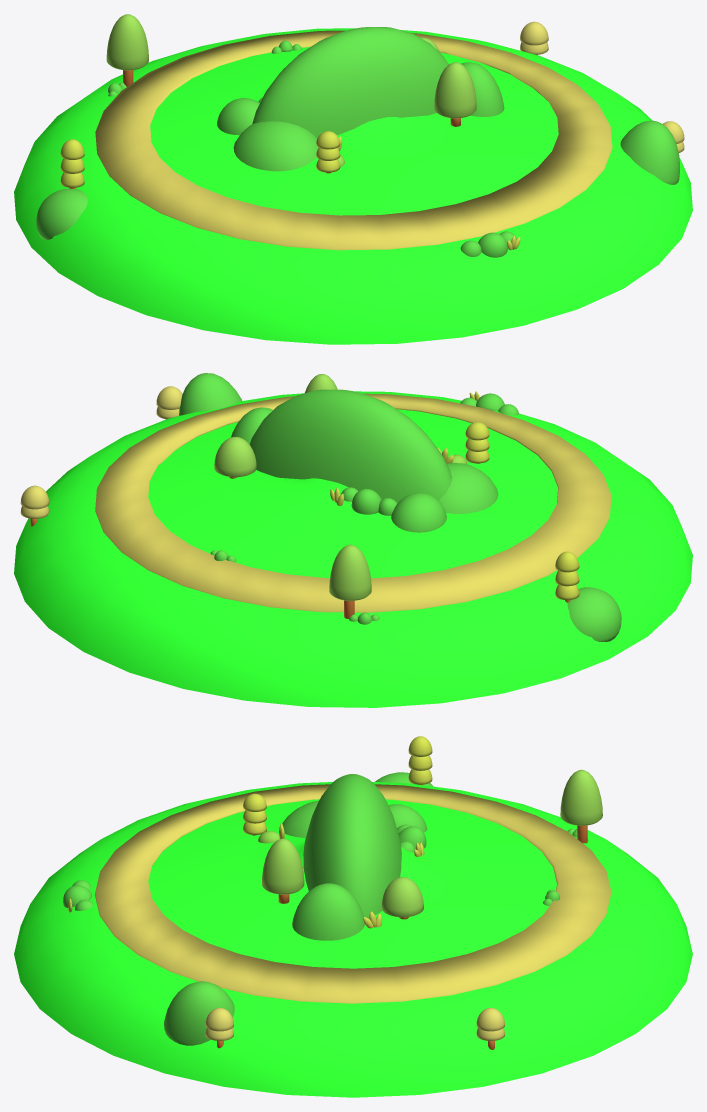
File: Island.gltf
3 views of the same model, one above another, from view 1: azimuth 30°, elevation 25°; view 2: azimuth 150°, elevation 25°; view 3: azimuth 270°, elevation 25° (orthographic).
Visible parts, largest first — view 1: Wood, Road, BigMountain, SmallMountainLeft, SmallMountain.001, MainTree, MainTree.004, SmallMountainLeft.002, SmallMountain, SmallMountainLeft.001, YellowTree.001, SmallGlass (+2 smaller); view 2: Wood, Road, BigMountain, SmallMountainLeft.002, SmallMountainLeft, MainTree.004, SmallMountain.001, SmallMountainLeft.001, MainTree.001, SmallGlass.001, YellowTree.001, YellowTree (+3 smaller); view 3: Wood, Road, BigMountain, SmallMountain, SmallMountain.001, MainTree, MainTree.004, MainTree.001, YellowTree.001, YellowTree, SmallMountainLeft, SmallGlass (+4 smaller).
Part boxes in pixels (box(x1,y1,x2,y2)): Wood: box(14, 28, 692, 344); Road: box(95, 30, 612, 250); BigMountain: box(252, 27, 448, 138); SmallMountainLeft: box(233, 121, 318, 171); SmallMountain.001: box(620, 120, 679, 184); MainTree: box(434, 62, 476, 118); MainTree.004: box(106, 14, 148, 70); SmallMountainLeft.002: box(36, 188, 87, 240); SmallMountain: box(461, 62, 504, 116); SmallMountainLeft.001: box(217, 98, 259, 135); YellowTree.001: box(60, 139, 84, 187); SmallGlass: box(460, 231, 516, 257); Wood: box(14, 391, 692, 707); Road: box(95, 393, 611, 612); BigMountain: box(249, 389, 452, 503); SmallMountainLeft.002: box(567, 587, 621, 641); SmallMountainLeft: box(439, 463, 498, 513); MainTree.004: box(329, 544, 371, 600); SmallMountain.001: box(179, 373, 242, 415); SmallMountainLeft.001: box(391, 492, 446, 532); MainTree.001: box(214, 437, 256, 477); SmallGlass.001: box(341, 487, 397, 515); YellowTree.001: box(555, 551, 579, 600); YellowTree: box(465, 422, 489, 463); Wood: box(14, 782, 692, 1097); Road: box(94, 784, 611, 1003); BigMountain: box(303, 774, 401, 918); SmallMountain: box(292, 883, 364, 940); SmallMountain.001: box(164, 981, 234, 1045); MainTree: box(262, 838, 304, 894); MainTree.004: box(560, 769, 602, 825); MainTree.001: box(381, 877, 423, 917); YellowTree.001: box(408, 736, 432, 784); YellowTree: box(243, 793, 266, 834); SmallMountainLeft: box(282, 800, 318, 837); SmallGlass: box(63, 880, 93, 910).
Bounding box in the file's own units: 7.4 × 2.04 × 7.4.
